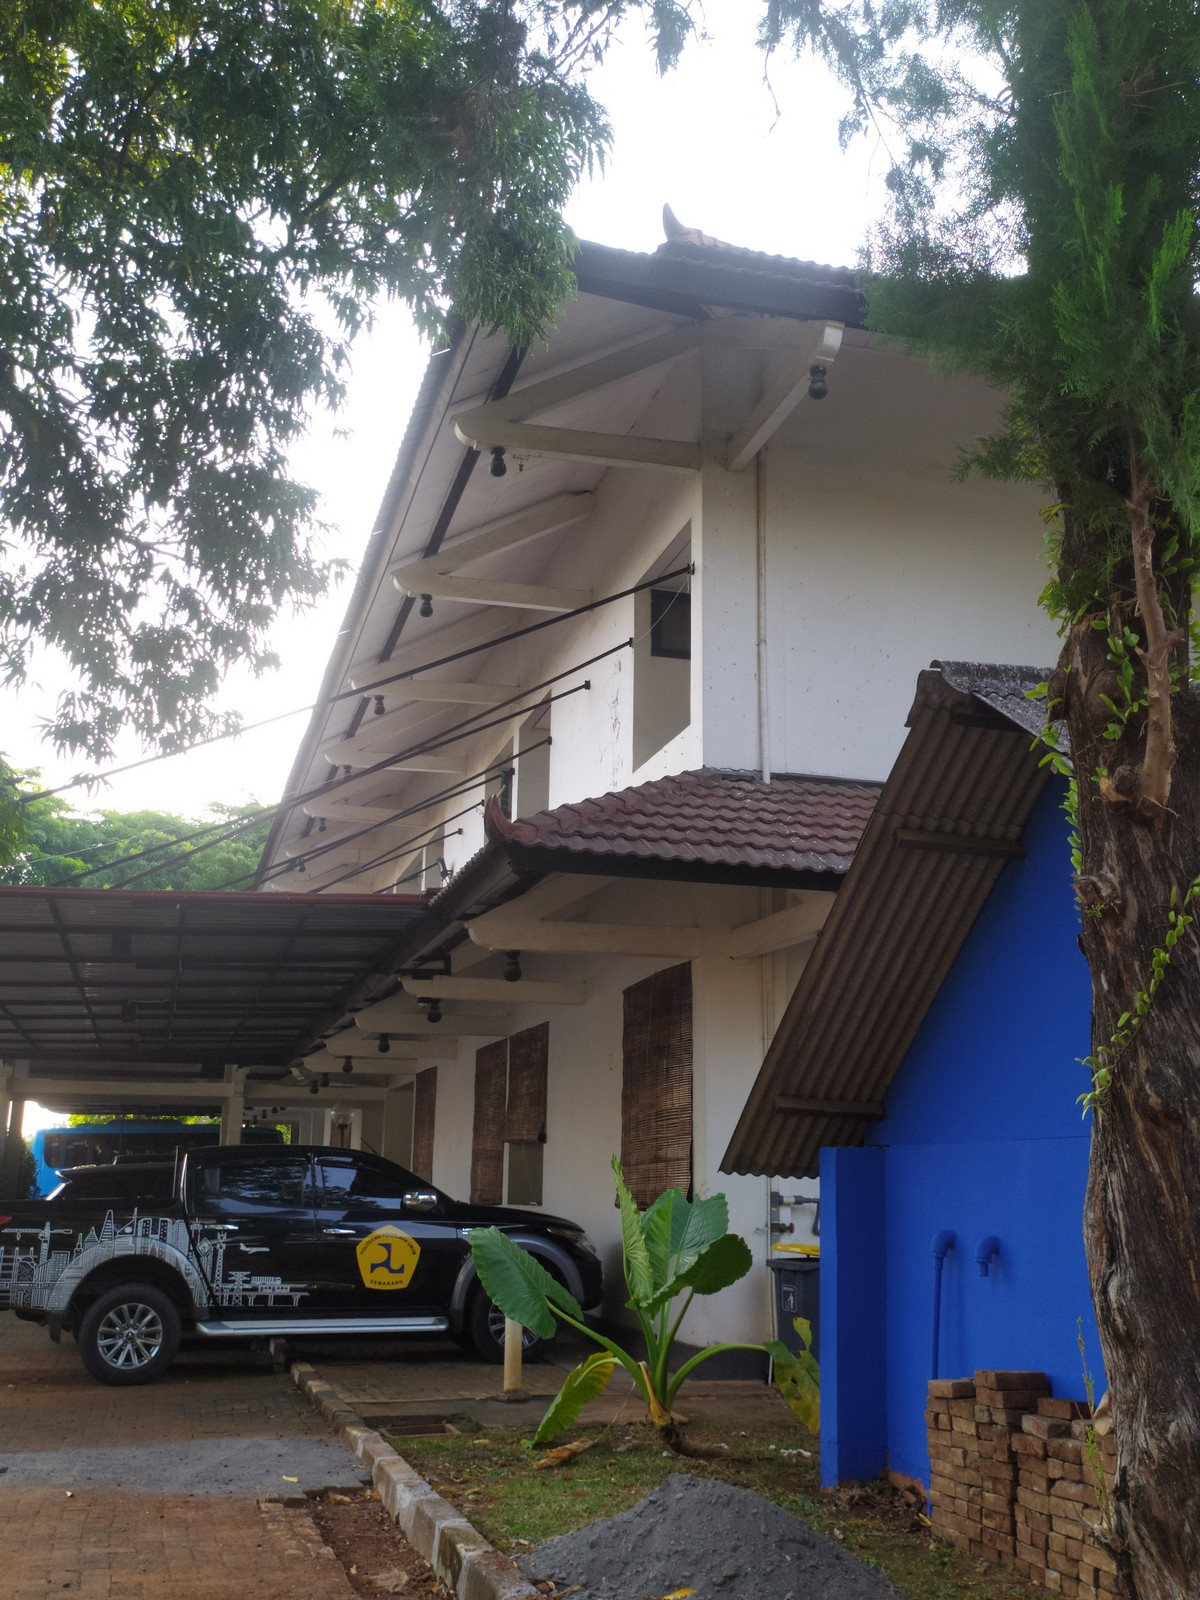concrete beam: (524, 422, 718, 483), (529, 918, 724, 965), (451, 574, 601, 622), (442, 974, 599, 1013), (395, 675, 536, 716)
concrete column: (684, 343, 773, 767)
